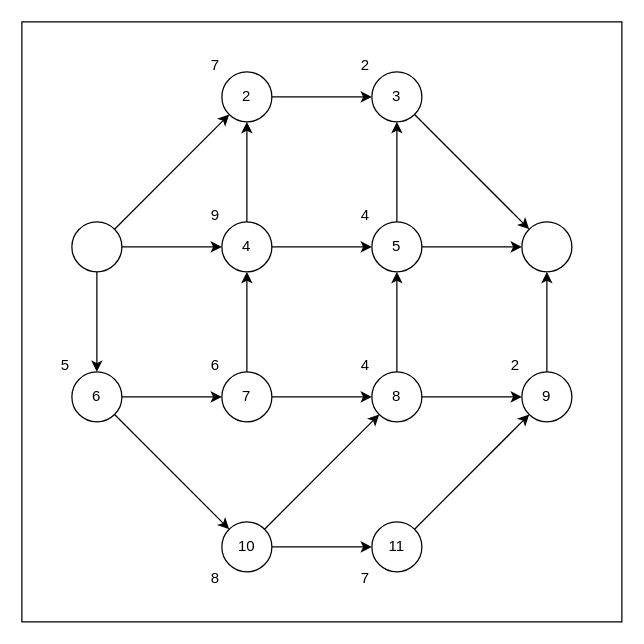
Some shapes in this 644 by 644 pixel diagram are drawn without their labels. Here are the shapes that lost their labels. From the top down, the box of each, then its label:
(71, 221, 122, 272): ini
(521, 221, 572, 272): fim
